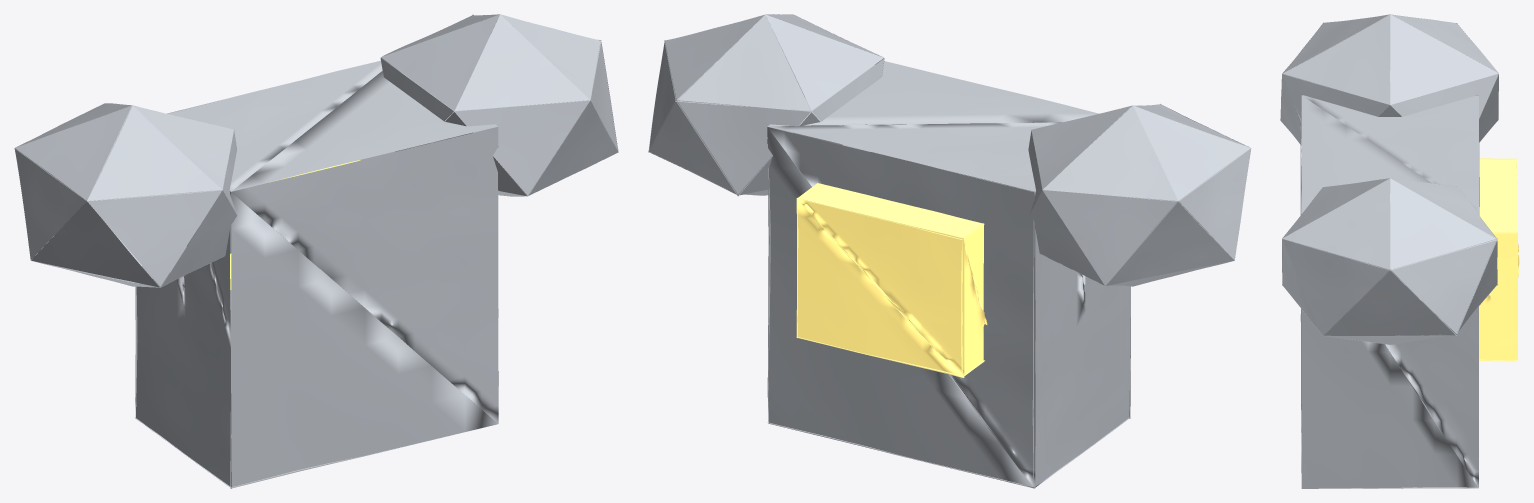
The model's file is armor.glb.
3 views of the same model, side by side, from view 1: azimuth 30°, elevation 25°; view 2: azimuth 150°, elevation 25°; view 3: azimuth 270°, elevation 25° (orthographic). The views are drawn at different scales.
Parts seen in each view (by area): view 1: ArmorTorso; view 2: ArmorTorso; view 3: ArmorTorso.
Boxes of the visible parts, left/top/right/bottom form: ArmorTorso: left=14, top=14, right=618, bottom=488; ArmorTorso: left=648, top=14, right=1251, bottom=488; ArmorTorso: left=1280, top=14, right=1519, bottom=488.
Bounding box in the file's own units: 1.71 × 1.04 × 0.6734.
